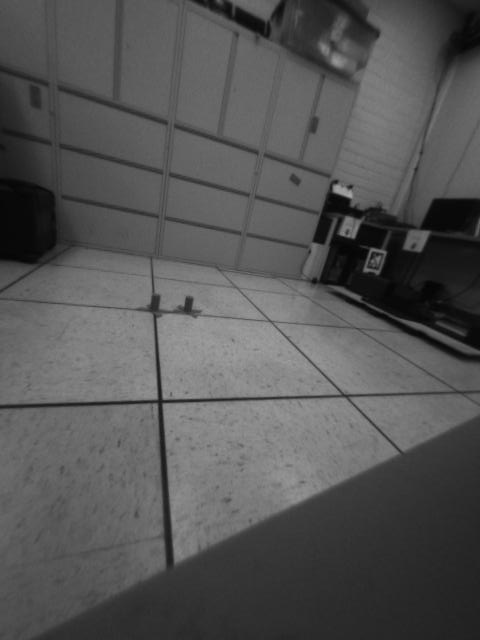X: (170, 290, 206, 319), (137, 293, 170, 320)
